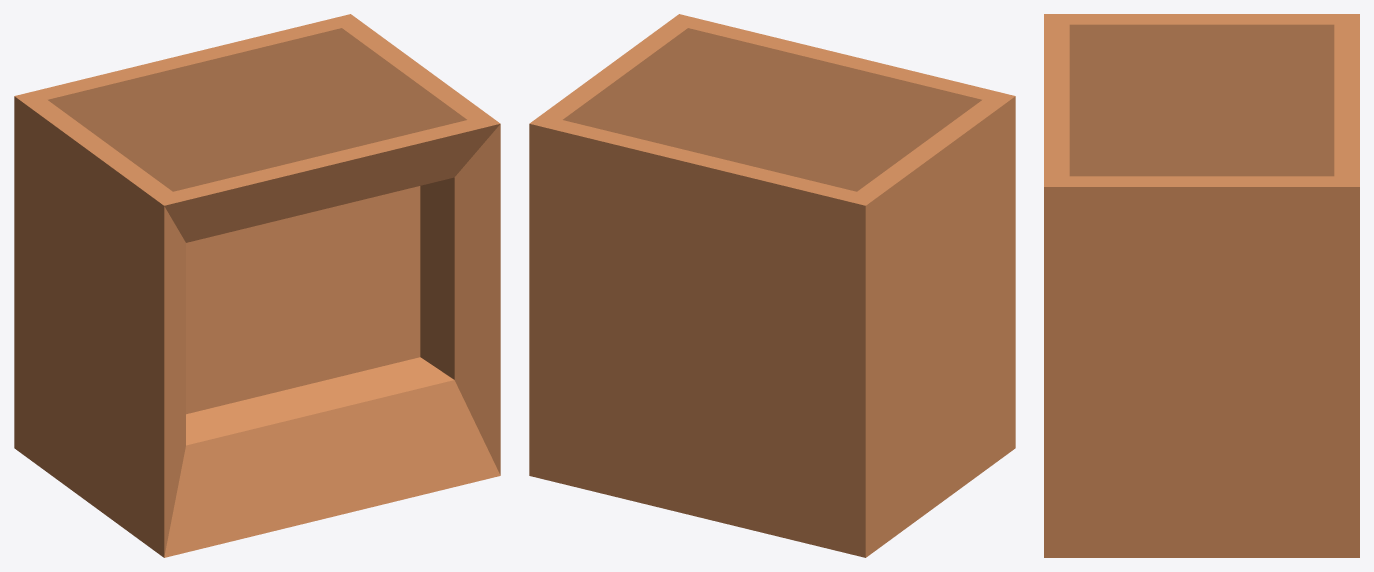
Rendered from kitchenSinkCupboardCollider.obj.
The picture shows the model from 3 angles, left to right: view 1: azimuth 30°, elevation 25°; view 2: azimuth 150°, elevation 25°; view 3: azimuth 270°, elevation 25°; orthographic projection. The views are drawn at different scales.
Visible parts, largest first — view 1: sinkCupboard, sinkCupboard.001, sinkCupboard.002, sinkCupboard.004, sinkCupboard.003; view 2: sinkCupboard.004, sinkCupboard.001, sinkCupboard; view 3: sinkCupboard.003, sinkCupboard.
Part boxes in pixels (x1,y1,x2,y2): sinkCupboard: (14,14,500,242); sinkCupboard.001: (14,96,185,557); sinkCupboard.002: (164,357,500,557); sinkCupboard.004: (186,186,420,414); sinkCupboard.003: (420,124,500,474); sinkCupboard.004: (529,124,865,557); sinkCupboard.001: (865,96,1015,557); sinkCupboard: (529,14,1015,205); sinkCupboard.003: (1044,187,1359,557); sinkCupboard: (1044,14,1359,186).
Bounding box in the file's own units: 0.903 × 0.903 × 0.6967.
